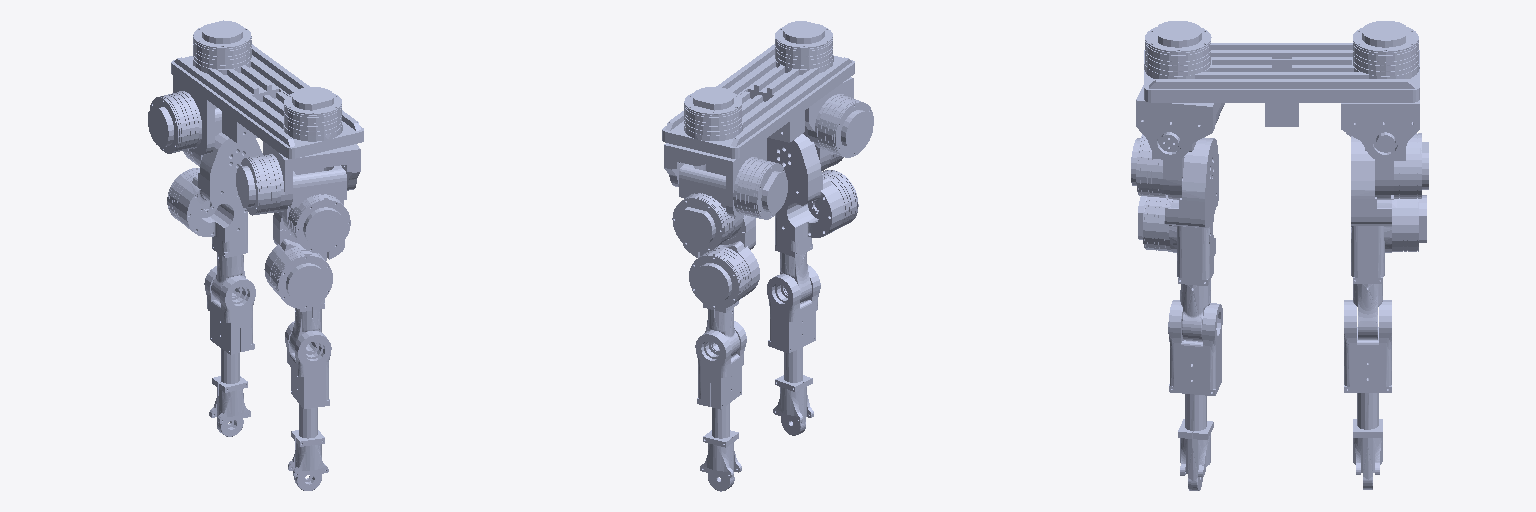
robot.urdf — biped:
<?xml version="1.0" ?>
<!-- =================================================================================== -->
<!-- |    This document was autogenerated by xacro from src/biped/urdf/biped.urdf.xacro | -->
<!-- |    EDITING THIS FILE BY HAND IS NOT RECOMMENDED                                 | -->
<!-- =================================================================================== -->
<robot name="biped">
  <!-- WORLD -->
  <link name="world"/>
  <!-- BASE LINK -->
  <joint name="base_joint" type="fixed">
    <parent link="world"/>
    <child link="base_link"/>
    <origin rpy="0 0 0" xyz="0.0 0.0 1.0"/>
  </joint>
  <link name="base_link">
    <inertial>
      <origin rpy="0 0 0" xyz="-0.075 -1.7228E-12 0.018444"/>
      <mass value="2.3066"/>
      <inertia ixx="0.037129" ixy="1.4112E-12" ixz="2.4145E-14" iyy="0.0050874" iyz="-1.8775E-13" izz="0.039336"/>
    </inertial>
    <visual>
      <origin rpy="0 0 0" xyz="0 0 0"/>
      <geometry>
        <mesh filename="package://meshes/base_link.stl"/>
      </geometry>
      <material name="">
        <color rgba="0.79216 0.81961 0.93333 1"/>
      </material>
    </visual>
    <collision>
      <origin rpy="0 0 0" xyz="0 0 0"/>
      <geometry>
        <mesh filename="package://meshes/base_link.stl"/>
      </geometry>
    </collision>
  </link>
  <link name="right_hip">
    <inertial>
      <origin rpy="0 0 0" xyz="-0.03744 0.014734 -0.040748"/>
      <mass value="0.92602"/>
      <inertia ixx="0.0017765" ixy="0.00042403" ixz="-0.0009366" iyy="0.0041848" iyz="0.0001218" izz="0.0040842"/>
    </inertial>
    <visual>
      <origin rpy="0 0 0" xyz="0 0 0"/>
      <geometry>
        <mesh filename="package://meshes/right_hip.stl"/>
      </geometry>
      <material name="">
        <color rgba="0.79216 0.81961 0.93333 1"/>
      </material>
    </visual>
    <collision>
      <origin rpy="0 0 0" xyz="0 0 0"/>
      <geometry>
        <mesh filename="package://meshes/right_hip.stl"/>
      </geometry>
    </collision>
  </link>
  <joint name="right_hip_joint" type="fixed">
    <origin rpy="-0.085528 0 0" xyz="-0.075 -0.1525 -0.0088144"/>
    <parent link="base_link"/>
    <child link="right_hip"/>
    <axis xyz="0 0 0"/>
    <limit effort="100" lower="-1" upper="1" velocity="10"/>
    <dynamics damping="5" friction="5"/>
  </joint>
  <link name="right_hip1">
    <inertial>
      <origin rpy="0 0 0" xyz="-0.014636 -0.051288 -0.00037149"/>
      <mass value="0.72654"/>
      <inertia ixx="0.0015168" ixy="-0.00017809" ixz="6.0089E-06" iyy="0.00097601" iyz="9.4152E-06" izz="0.0012605"/>
    </inertial>
    <visual>
      <origin rpy="0 0 0" xyz="0 0 0"/>
      <geometry>
        <mesh filename="package://meshes/right_hip1.stl"/>
      </geometry>
      <material name="">
        <color rgba="0.79216 0.81961 0.93333 1"/>
      </material>
    </visual>
    <collision>
      <origin rpy="0 0 0" xyz="0 0 0"/>
      <geometry>
        <mesh filename="package://meshes/right_hip1.stl"/>
      </geometry>
    </collision>
  </link>
  <joint name="right_hip1_joint" type="revolute">
    <origin rpy="1.5876 -0.031834 1.3734" xyz="0 0.0055525 -0.064762"/>
    <parent link="right_hip"/>
    <child link="right_hip1"/>
    <axis xyz="0 0 -1"/>
    <limit effort="100" lower="-1.5" upper="1.5" velocity="10"/>
    <dynamics damping="5" friction="5"/>
  </joint>
  <link name="right_femur">
    <inertial>
      <origin rpy="0 0 0" xyz="0.089485 0.018664 0.042453"/>
      <mass value="1.2286"/>
      <inertia ixx="0.0025196" ixy="-0.0012637" ixz="-0.00051185" iyy="0.00627" iyz="0.00031089" izz="0.0065871"/>
    </inertial>
    <visual>
      <origin rpy="0 0 0" xyz="0 0 0"/>
      <geometry>
        <mesh filename="package://meshes/right_femur.stl"/>
      </geometry>
      <material name="">
        <color rgba="0.79216 0.81961 0.93333 1"/>
      </material>
    </visual>
    <collision>
      <origin rpy="0 0 0" xyz="0 0 0"/>
      <geometry>
        <mesh filename="package://meshes/right_femur.stl"/>
      </geometry>
    </collision>
  </link>
  <joint name="right_hip2_joint" type="revolute">
    <origin rpy="1.5708 0.33373 -1.5188" xyz="0.054442 -0.064756 0"/>
    <parent link="right_hip1"/>
    <child link="right_femur"/>
    <axis xyz="0 0 -1"/>
    <limit effort="100" lower="-2" upper="2" velocity="10"/>
    <dynamics damping="5" friction="5"/>
  </joint>
  <link name="right_tibia">
    <inertial>
      <origin rpy="0 0 0" xyz="0.089901 -0.033312 0.015011"/>
      <mass value="0.49544"/>
      <inertia ixx="0.00055134" ixy="0.00080538" ixz="-7.8004E-07" iyy="0.0026379" iyz="2.6046E-07" izz="0.0028419"/>
    </inertial>
    <visual>
      <origin rpy="0 0 0" xyz="0 0 0"/>
      <geometry>
        <mesh filename="package://meshes/right_tibia.stl"/>
      </geometry>
      <material name="">
        <color rgba="0.79216 0.81961 0.93333 1"/>
      </material>
    </visual>
    <collision>
      <origin rpy="0 0 0" xyz="0 0 0"/>
      <geometry>
        <mesh filename="package://meshes/right_tibia.stl"/>
      </geometry>
    </collision>
  </link>
  <joint name="right_knee_joint" type="revolute">
    <origin rpy="3.1416 0 0" xyz="0.23453 0.08076 0.04"/>
    <parent link="right_femur"/>
    <child link="right_tibia"/>
    <axis xyz="0 0 -1"/>
    <limit effort="100" lower="-1.6" upper="1.6" velocity="30"/>
    <dynamics damping="0.5" friction="0.1"/>
  </joint>
  <link name="left_hip">
    <inertial>
      <origin rpy="0 0 0" xyz="-0.0090564 0.038583 -0.043265"/>
      <mass value="0.95354"/>
      <inertia ixx="0.0043228" ixy="0.00025987" ixz="-0.00011182" iyy="0.0018683" iyz="0.00098055" izz="0.0041574"/>
    </inertial>
    <visual>
      <origin rpy="0 0 0" xyz="0 0 0"/>
      <geometry>
        <mesh filename="package://meshes/left_hip.stl"/>
      </geometry>
      <material name="">
        <color rgba="0.79216 0.81961 0.93333 1"/>
      </material>
    </visual>
    <collision>
      <origin rpy="0 0 0" xyz="0 0 0"/>
      <geometry>
        <mesh filename="package://meshes/left_hip.stl"/>
      </geometry>
    </collision>
  </link>
  <joint name="left_hip_joint" type="fixed">
    <origin rpy="-0.015261 0.052025 1.3913" xyz="-0.075 0.1525 -0.0088144"/>
    <parent link="base_link"/>
    <child link="left_hip"/>
    <axis xyz="0 0 0"/>
    <limit effort="100" lower="-1" upper="1" velocity="10"/>
    <dynamics damping="5" friction="5"/>
  </joint>
  <link name="left_hip1">
    <inertial>
      <origin rpy="0 0 0" xyz="0.019906 -0.049546 -0.00029009"/>
      <mass value="0.72754"/>
      <inertia ixx="0.0014828" ixy="0.0002359" ixz="-5.785E-06" iyy="0.0010235" iyz="5.8368E-06" izz="0.0012669"/>
    </inertial>
    <visual>
      <origin rpy="0 0 0" xyz="0 0 0"/>
      <geometry>
        <mesh filename="package://meshes/left_hip1.stl"/>
      </geometry>
      <material name="">
        <color rgba="0.79216 0.81961 0.93333 1"/>
      </material>
    </visual>
    <collision>
      <origin rpy="0 0 0" xyz="0 0 0"/>
      <geometry>
        <mesh filename="package://meshes/left_hip1.stl"/>
      </geometry>
    </collision>
  </link>
  <joint name="left_hip1_joint" type="revolute">
    <origin rpy="1.5765 -0.0010385 0.17926" xyz="0.0033801 0.00099056 -0.064904"/>
    <parent link="left_hip"/>
    <child link="left_hip1"/>
    <axis xyz="0 0 1"/>
    <limit effort="100" lower="-1.5" upper="1.5" velocity="10"/>
    <dynamics damping="5" friction="5"/>
  </joint>
  <link name="left_femur">
    <inertial>
      <origin rpy="0 0 0" xyz="0.0142 0.090298 0.042453"/>
      <mass value="1.2286"/>
      <inertia ixx="0.0063842" ixy="-0.0010742" ixz="0.00033666" iyy="0.0024062" iyz="-0.00049586" izz="0.0065879"/>
    </inertial>
    <visual>
      <origin rpy="0 0 0" xyz="0 0 0"/>
      <geometry>
        <mesh filename="package://meshes/left_femur.stl"/>
      </geometry>
      <material name="">
        <color rgba="0.79216 0.81961 0.93333 1"/>
      </material>
    </visual>
    <collision>
      <origin rpy="0 0 0" xyz="0 0 0"/>
      <geometry>
        <mesh filename="package://meshes/left_femur.stl"/>
      </geometry>
    </collision>
  </link>
  <joint name="left_hip2_joint" type="revolute">
    <origin rpy="-1.5708 -1.287 -1.5179" xyz="-0.047361 -0.070101 0"/>
    <parent link="left_hip1"/>
    <child link="left_femur"/>
    <axis xyz="0 0 -1"/>
    <limit effort="100" lower="-2" upper="2" velocity="10"/>
    <dynamics damping="5" friction="5"/>
  </joint>
  <link name="left_tibia">
    <inertial>
      <origin rpy="0 0 0" xyz="0.027455 0.088761 0.013011"/>
      <mass value="0.49544"/>
      <inertia ixx="0.002713" ixy="-0.00069731" ixz="-2.2112E-07" iyy="0.00047622" iyz="-7.9205E-07" izz="0.0028419"/>
    </inertial>
    <visual>
      <origin rpy="0 0 0" xyz="0 0 0"/>
      <geometry>
        <mesh filename="package://meshes/left_tibia.stl"/>
      </geometry>
      <material name="">
        <color rgba="0.79216 0.81961 0.93333 1"/>
      </material>
    </visual>
    <collision>
      <origin rpy="0 0 0" xyz="0 0 0"/>
      <geometry>
        <mesh filename="package://meshes/left_tibia.stl"/>
      </geometry>
    </collision>
  </link>
  <joint name="left_knee_joint" type="revolute">
    <origin rpy="0 0 0" xyz="0.070275 0.24096 0.012"/>
    <parent link="left_femur"/>
    <child link="left_tibia"/>
    <axis xyz="0 0 -1"/>
    <limit effort="100" lower="-1.6" upper="1.6" velocity="10"/>
    <dynamics damping="5" friction="5"/>
  </joint>
  <ros2_control name="leg" type="actuator">
    <hardware>
      <plugin>gz_ros2_control/GazeboSimSystem</plugin>
    </hardware>
    <joint name="right_hip1_joint">
      <param name="node_id">4</param>
      <param name="model">AK10_9</param>
      <param name="control_mode">torque</param>
      <param name="kp">0.0</param>
      <param name="kd">0.0</param>
      <param name="reduction">23.0</param>
      <param name="home_on_startup">1.0</param>
      <param name="homing_torque">1.0</param>
      <param name="offset">0.0</param>
      <command_interface name="effort"/>
      <state_interface name="position"/>
      <state_interface name="velocity"/>
    </joint>
    <joint name="right_hip2_joint">
      <param name="node_id">5</param>
      <param name="model">AK80_64</param>
      <param name="control_mode">torque</param>
      <param name="kp">0.0</param>
      <param name="kd">0.0</param>
      <param name="reduction">1.0</param>
      <param name="home_on_startup">1.0</param>
      <param name="homing_torque">1.0</param>
      <param name="offset">0.0</param>
      <command_interface name="effort"/>
      <state_interface name="position"/>
      <state_interface name="velocity"/>
    </joint>
    <joint name="left_hip1_joint">
      <param name="node_id">1</param>
      <param name="model">AK10_9</param>
      <param name="control_mode">torque</param>
      <param name="kp">0.0</param>
      <param name="kd">0.0</param>
      <param name="reduction">23.0</param>
      <param name="home_on_startup">1.0</param>
      <param name="homing_torque">1.0</param>
      <param name="offset">0.0</param>
      <command_interface name="effort"/>
      <state_interface name="position"/>
      <state_interface name="velocity"/>
    </joint>
    <joint name="left_hip2_joint">
      <param name="node_id">2</param>
      <param name="model">AK80_64</param>
      <param name="control_mode">torque</param>
      <param name="kp">0.0</param>
      <param name="kd">0.0</param>
      <param name="reduction">1.0</param>
      <param name="home_on_startup">1.0</param>
      <param name="homing_torque">1.0</param>
      <param name="offset">0.0</param>
      <command_interface name="effort"/>
      <state_interface name="position"/>
      <state_interface name="velocity"/>
    </joint>
  </ros2_control>
  <ros2_control name="leg_knee" type="actuator">
    <hardware>
      <plugin>gz_ros2_control/GazeboSimSystem</plugin>
    </hardware>
    <joint name="right_knee_joint">
      <param name="node_id">6</param>
      <param name="model">RMDX8_19</param>
      <param name="control_mode">torque</param>
      <param name="reduction">3.33</param>
      <param name="home_on_startup">1.0</param>
      <param name="homing_vel">1.0</param>
      <param name="offset">0.0</param>
      <state_interface name="position"/>
      <state_interface name="velocity"/>
      <state_interface name="effort"/>
      <command_interface name="effort"/>
    </joint>
    <joint name="left_knee_joint">
      <param name="node_id">3</param>
      <param name="model">RMDX8_19</param>
      <param name="control_mode">torque</param>
      <param name="reduction">3.33</param>
      <param name="home_on_startup">1.0</param>
      <param name="homing_vel">1.0</param>
      <param name="offset">0.0</param>
      <state_interface name="position"/>
      <state_interface name="velocity"/>
      <state_interface name="effort"/>
      <command_interface name="effort"/>
    </joint>
  </ros2_control>
  <gazebo>
    <plugin filename="gz_ros2_control-system" name="gz_ros2_control::GazeboSimROS2ControlPlugin">
      <parameters>config/biped.yaml</parameters>
      <ros>
        <namespace> BIPED </namespace>
      </ros>
    </plugin>
  </gazebo>
</robot>

--- Facts derived from the render (not from the file) ---
3 views of the same robot in one strip: view 1: azimuth 30°, elevation 25°; view 2: azimuth 150°, elevation 25°; view 3: azimuth 270°, elevation 25° (orthographic).
Model biped with 10 links and 9 joints (6 revolute, 3 fixed), rooted at world, posed all joints at 0.
Links seen in each view (by area): view 1: base_link, left_femur, left_tibia, right_femur, right_tibia, right_hip1, right_hip, left_hip; view 2: base_link, right_femur, right_tibia, left_tibia, left_femur, left_hip, left_hip1, right_hip; view 3: base_link, right_femur, left_femur, right_tibia, left_tibia, right_hip, left_hip, left_hip1, right_hip1.
Boxes of the visible links, left/top/right/bottom form: base_link: left=171, top=20, right=363, bottom=158; left_femur: left=167, top=132, right=262, bottom=301; left_tibia: left=204, top=266, right=255, bottom=436; right_femur: left=264, top=212, right=344, bottom=354; right_tibia: left=285, top=321, right=331, bottom=490; right_hip1: left=282, top=164, right=350, bottom=252; right_hip: left=236, top=141, right=360, bottom=215; left_hip: left=148, top=75, right=214, bottom=154; base_link: left=662, top=21, right=854, bottom=158; right_femur: left=767, top=134, right=858, bottom=302; right_tibia: left=767, top=265, right=820, bottom=435; left_tibia: left=695, top=321, right=746, bottom=491; left_femur: left=683, top=215, right=759, bottom=355; left_hip: left=664, top=139, right=787, bottom=219; left_hip1: left=672, top=164, right=743, bottom=251; right_hip: left=805, top=77, right=873, bottom=157; base_link: left=1144, top=21, right=1419, bottom=126; right_femur: left=1138, top=137, right=1218, bottom=341; left_femur: left=1351, top=136, right=1426, bottom=339; right_tibia: left=1168, top=300, right=1222, bottom=490; left_tibia: left=1344, top=300, right=1391, bottom=489; right_hip: left=1136, top=85, right=1224, bottom=161; left_hip: left=1341, top=100, right=1419, bottom=161; left_hip1: left=1365, top=132, right=1428, bottom=199; right_hip1: left=1131, top=132, right=1196, bottom=199.
Size in the robot's own frame: 0.2085 by 0.4397 by 0.7428 metres.
Meshes: 9 distinct files referenced, 9 mesh visuals loaded (9 binary STL).